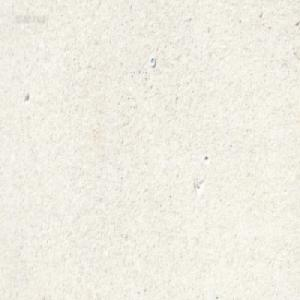Washer: (149, 57, 155, 68)
